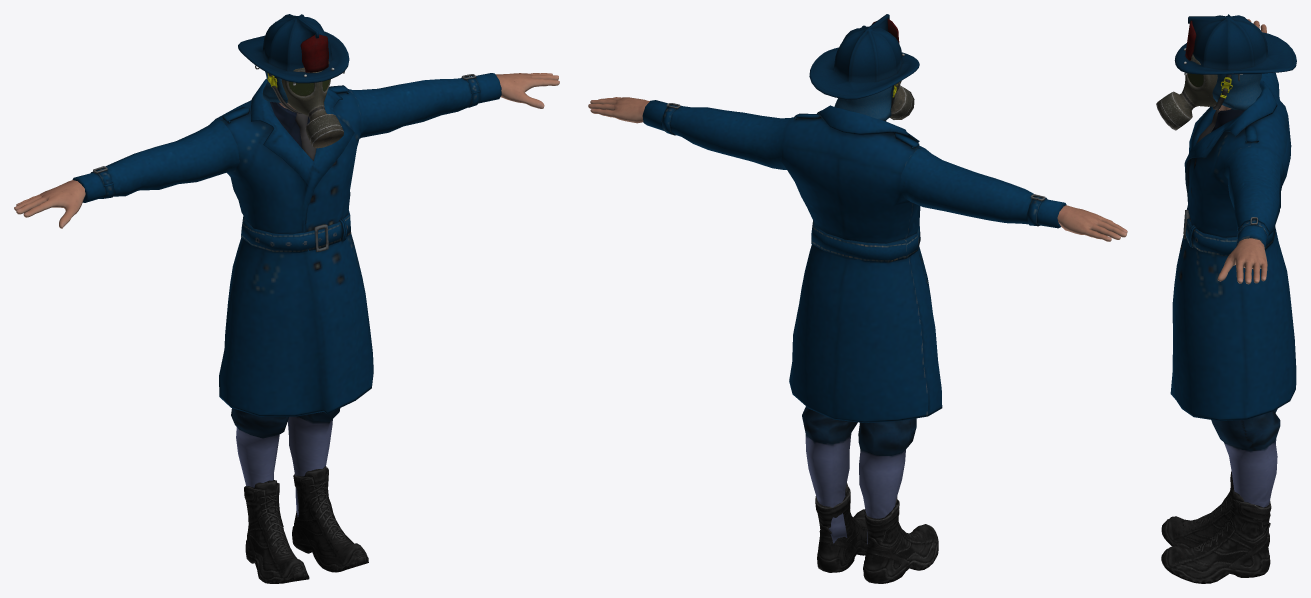
Rendered from human medic.obj.
3 views of the same model, side by side, from view 1: azimuth 30°, elevation 25°; view 2: azimuth 150°, elevation 25°; view 3: azimuth 270°, elevation 25° (orthographic).
Parts seen in each view (by area): view 1: Tops, Shoes, Hats, Bottoms, Body, Masks; view 2: Tops, Bottoms, Hats, Shoes, Body; view 3: Tops, Shoes, Hats, Bottoms, Masks, Body.
Part boxes in pixels (x1=…): Tops: x1=72, y1=73, x2=501, y2=416; Shoes: x1=244, y1=466, x2=368, y2=583; Hats: x1=238, y1=14, x2=349, y2=113; Bottoms: x1=231, y1=408, x2=340, y2=516; Body: x1=14, y1=73, x2=559, y2=228; Masks: x1=281, y1=61, x2=343, y2=148; Tops: x1=642, y1=100, x2=1066, y2=422; Bottoms: x1=802, y1=406, x2=916, y2=543; Hats: x1=809, y1=14, x2=919, y2=120; Shoes: x1=815, y1=482, x2=938, y2=583; Body: x1=588, y1=97, x2=1127, y2=241; Tops: x1=1170, y1=72, x2=1296, y2=421; Shoes: x1=1161, y1=471, x2=1271, y2=583; Hats: x1=1174, y1=14, x2=1296, y2=110; Bottoms: x1=1211, y1=409, x2=1280, y2=530; Masks: x1=1156, y1=54, x2=1217, y2=130; Body: x1=1217, y1=19, x2=1267, y2=284.
Size of the model in its own units: 194 by 186 by 43.59.
1 material, 1 textured.
